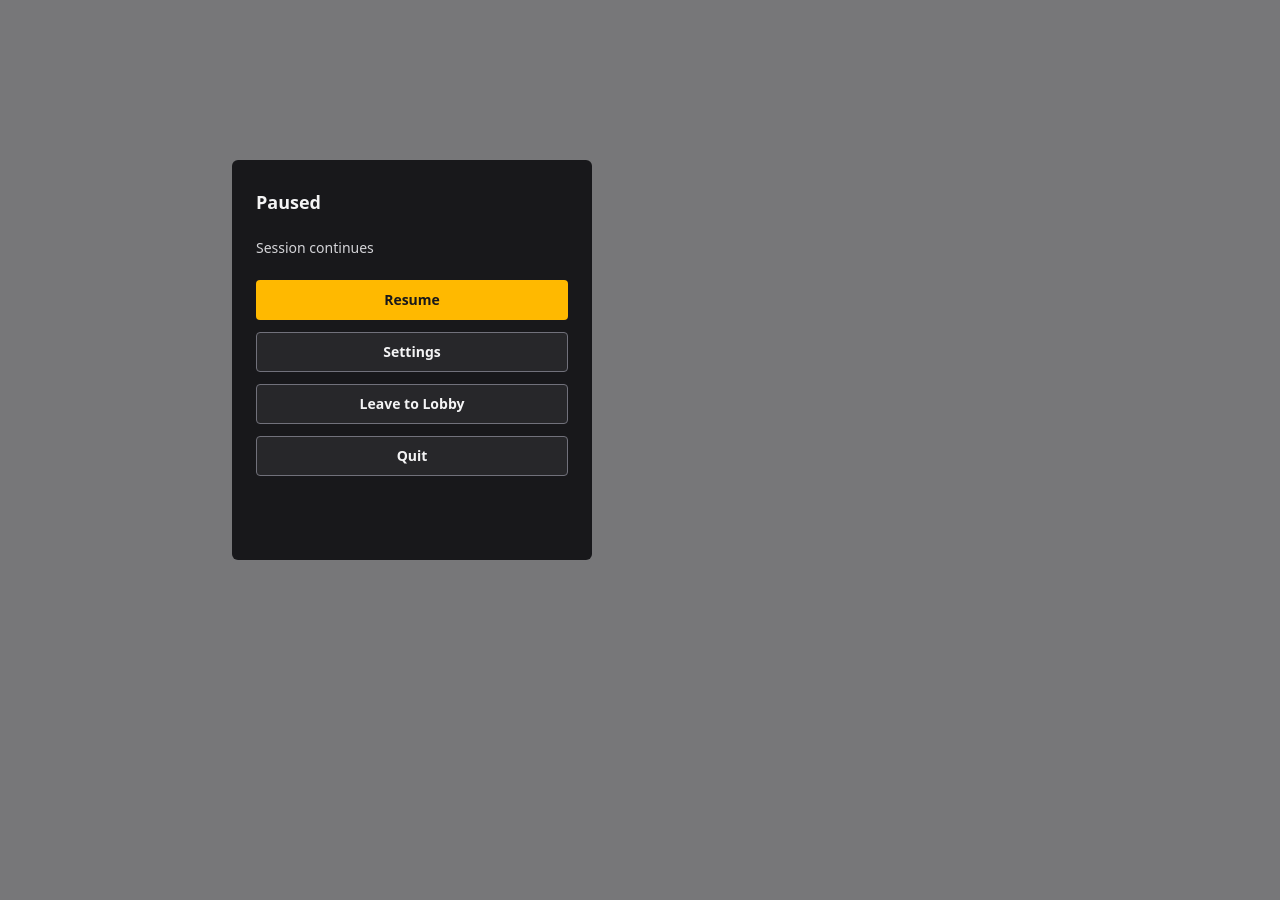
Test case: PauseScreen › a rejected request shows feedback, cleared on the next action
Click the button "Resume": click(412, 300) 256,280 -> 568,320
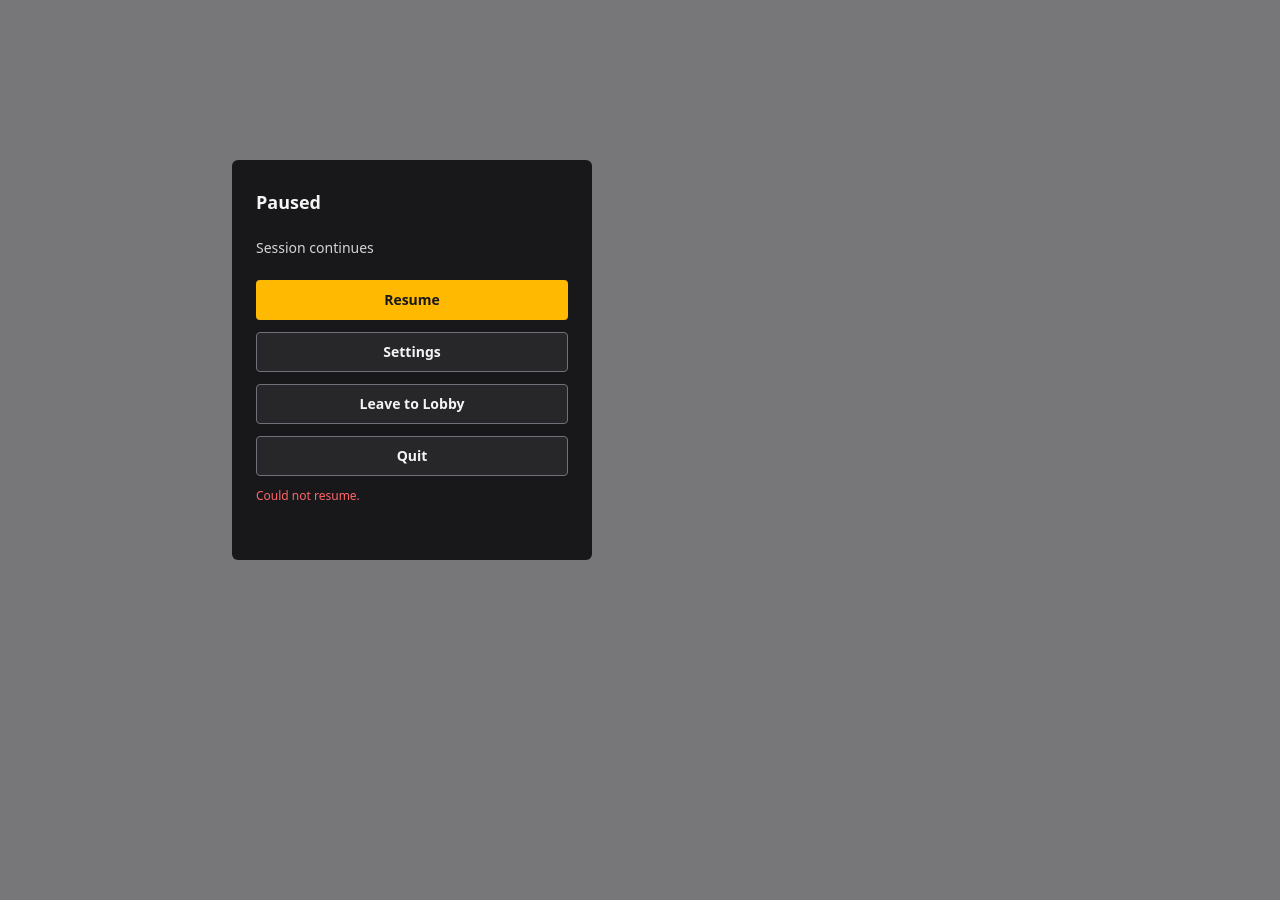
Expected: the message reads "Could not resume.", 256,487 -> 360,504
Click the button "Leave to Lobby": click(412, 404) 256,384 -> 568,424
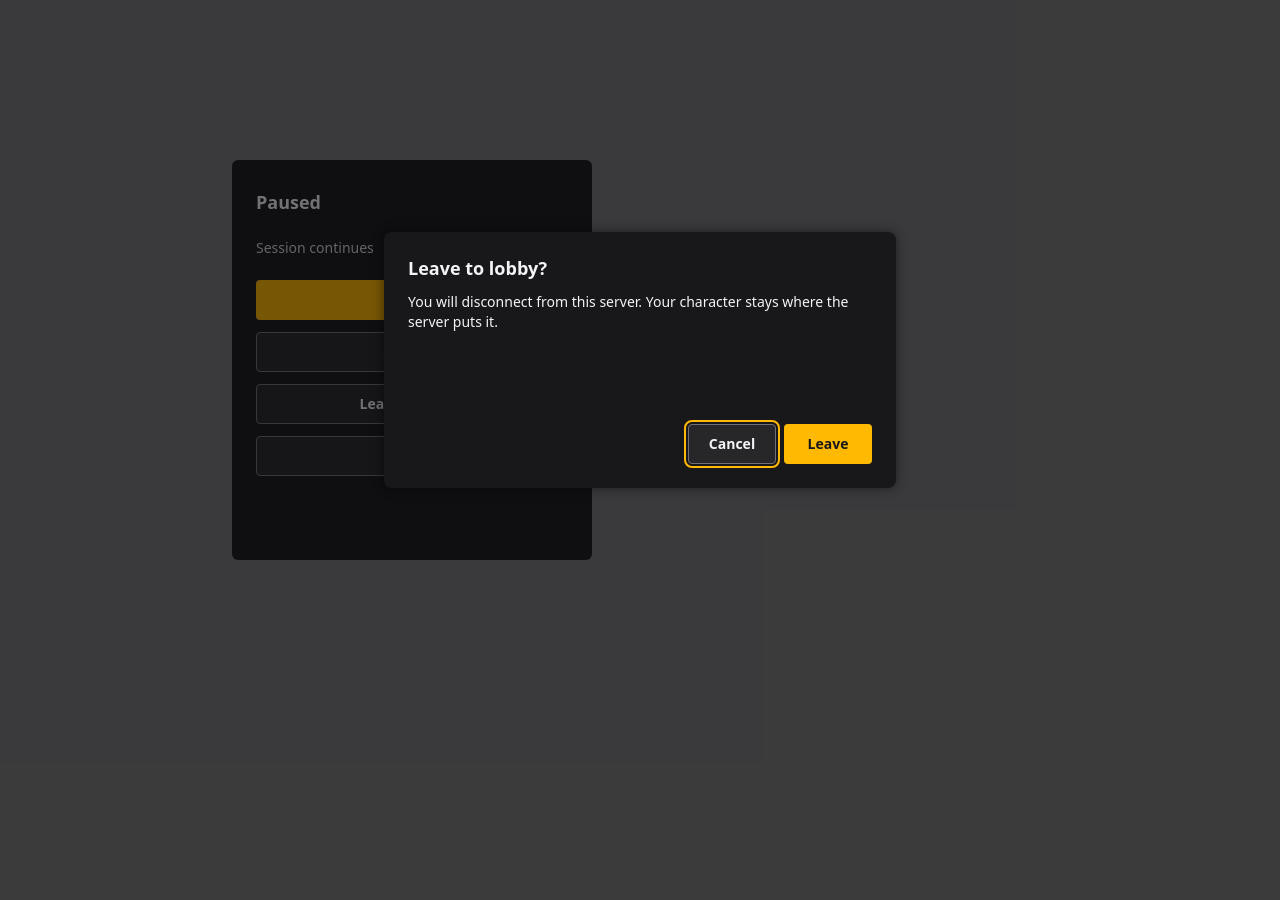
Expected: the text "Could not resume." is gone
Click the button "Leave": click(828, 444) 784,424 -> 872,464
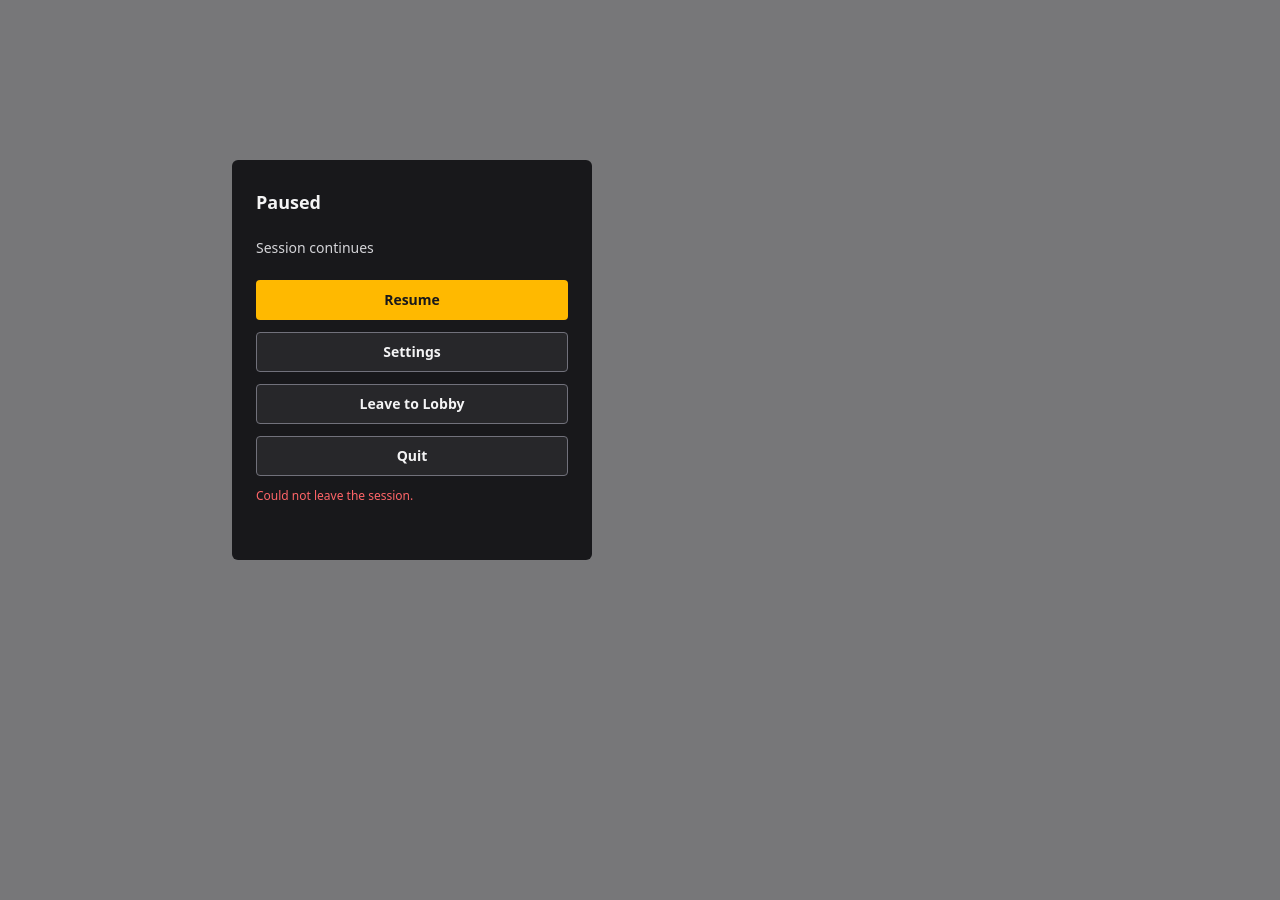
Expected: the dialog is gone
Expected: the message reads "Could not leave the session.", 256,487 -> 413,504
